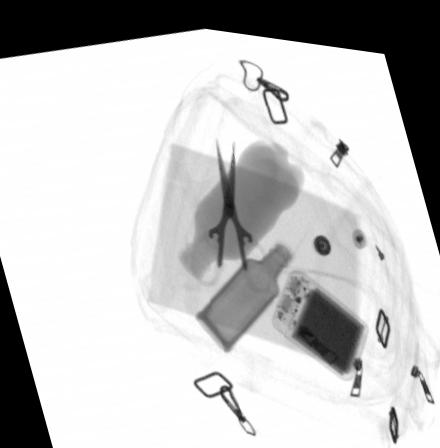Powerbank: (268, 260, 369, 372)
Scissors: (186, 130, 275, 289)
